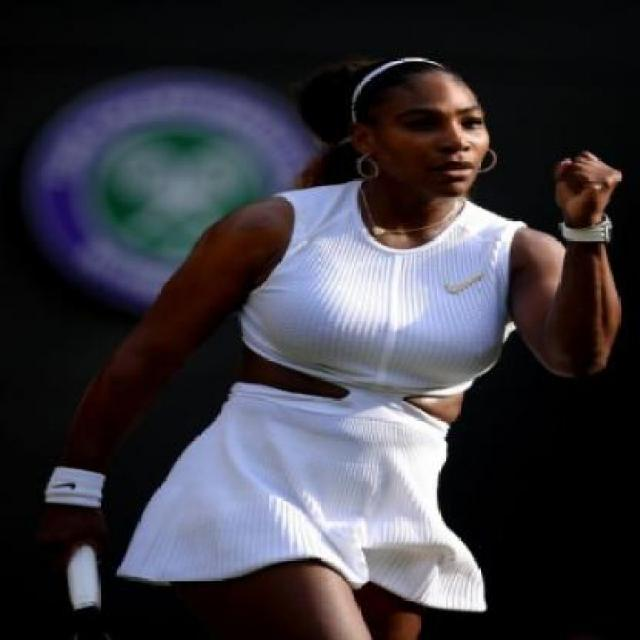Nike: (432, 269, 488, 294)
